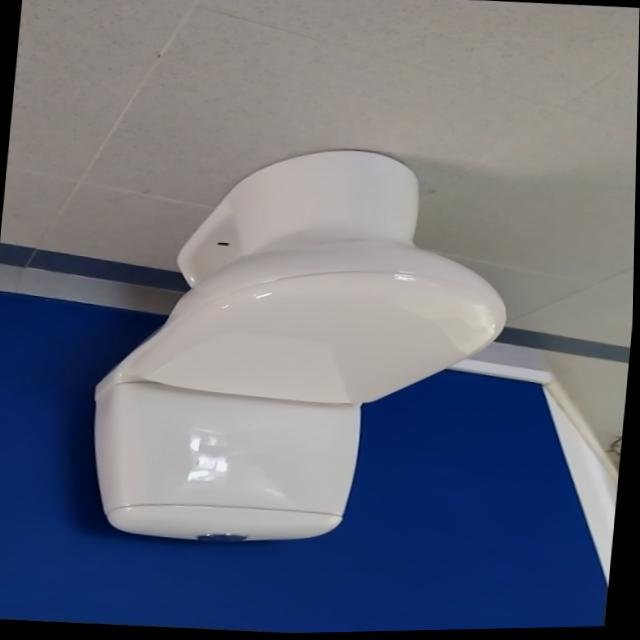toilet: (81, 132, 523, 565)
